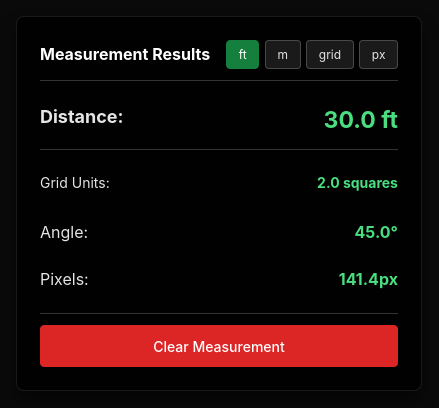
Test: MeasurementTool › switches unit to px
Step 1. Click the button "px" → (379, 54), box left=359, top=40, right=398, bottom=68
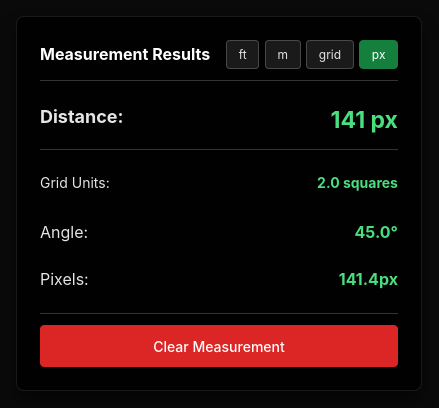
Check: the text "141 px" is shown, box left=330, top=103, right=398, bottom=137
